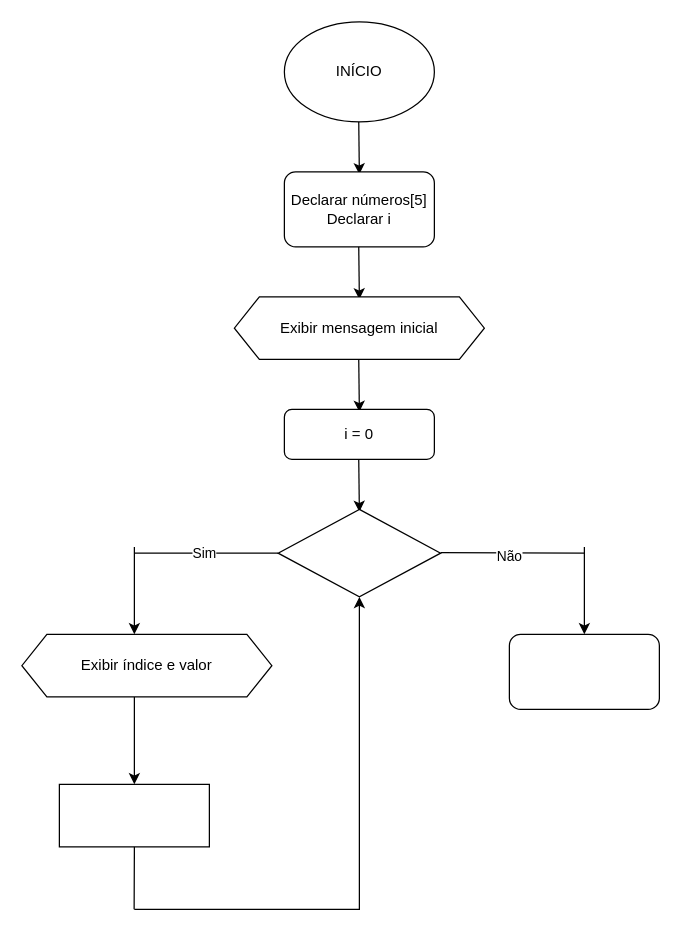
Image size: 681x941. Some labels were removed from this diagram. The centre of each missing label's shape, as x and y in pixels:
"Fim" belongs at (583,671).
"i < 5?" belongs at (359,552).
"i ← i + 1" belongs at (133,815).
